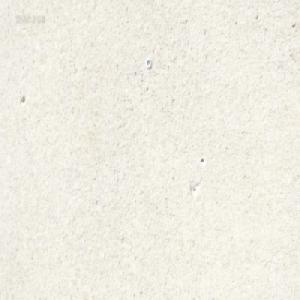Washer: (145, 58, 152, 69)
